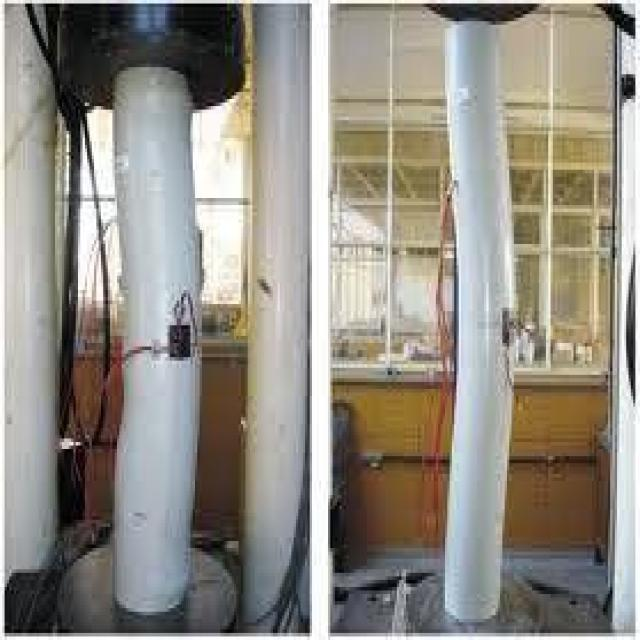Buckling_Beam: (418, 4, 547, 639), (87, 21, 218, 626)
